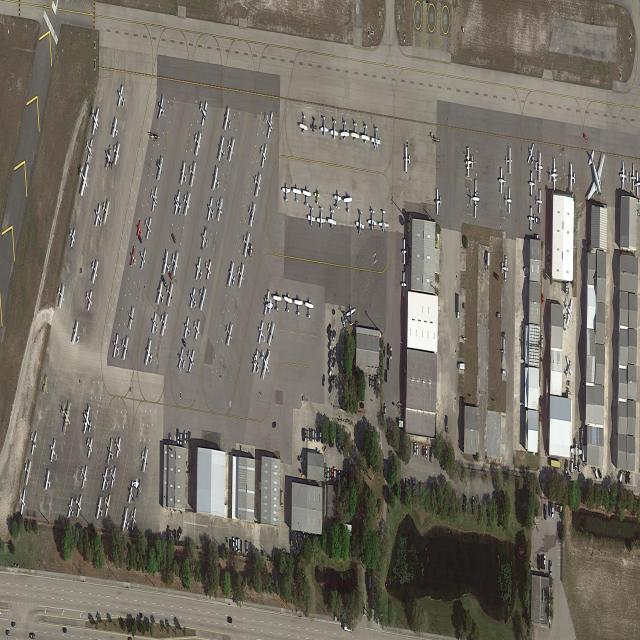large-vehicle: (344, 623, 353, 632), (457, 295, 460, 319), (458, 363, 465, 370)
plane: (582, 131, 609, 215), (77, 154, 91, 202), (60, 392, 73, 440), (259, 339, 272, 386), (81, 400, 93, 442), (89, 100, 101, 141), (103, 139, 115, 179), (564, 292, 575, 332), (570, 437, 582, 473), (264, 105, 275, 142), (198, 94, 209, 131), (251, 346, 262, 381), (144, 336, 154, 374), (159, 303, 169, 340), (173, 186, 183, 223), (471, 179, 480, 220), (263, 287, 273, 323), (227, 259, 237, 295), (236, 256, 246, 292), (71, 317, 81, 353), (28, 424, 38, 460), (149, 180, 159, 216), (157, 91, 167, 127), (266, 314, 276, 349), (242, 226, 252, 261), (253, 166, 263, 201), (226, 131, 236, 166), (120, 329, 130, 364), (56, 278, 66, 313), (23, 454, 33, 489), (198, 280, 208, 315), (186, 341, 196, 376), (156, 277, 166, 312), (182, 185, 192, 220), (139, 441, 149, 475), (257, 317, 267, 351), (224, 316, 234, 350), (49, 436, 59, 470), (84, 132, 94, 166), (564, 352, 574, 385), (259, 139, 269, 172), (106, 435, 115, 471), (171, 244, 180, 280), (248, 196, 257, 231), (224, 104, 233, 139), (74, 487, 83, 522), (212, 164, 221, 199), (162, 248, 171, 283), (112, 331, 121, 365), (80, 458, 89, 492), (90, 253, 99, 287), (117, 81, 126, 115), (215, 191, 224, 225), (195, 254, 204, 288), (165, 276, 174, 310), (188, 156, 197, 190), (193, 125, 202, 159), (155, 150, 164, 184), (18, 484, 27, 518), (101, 464, 110, 497), (94, 201, 103, 234), (101, 194, 110, 227), (206, 194, 215, 227), (200, 223, 209, 256), (527, 139, 536, 171), (550, 157, 558, 193), (144, 211, 153, 243), (85, 430, 94, 461), (112, 138, 121, 169), (122, 505, 130, 539), (204, 254, 213, 284), (189, 285, 198, 315), (183, 314, 192, 344), (109, 460, 117, 493), (103, 487, 111, 520), (127, 301, 135, 334), (218, 134, 226, 167), (620, 160, 628, 193), (356, 208, 365, 237), (379, 208, 389, 234), (178, 344, 186, 376), (371, 126, 381, 151), (128, 479, 136, 510), (96, 494, 104, 525), (139, 243, 147, 274), (193, 313, 201, 344), (180, 160, 188, 191), (346, 304, 356, 328), (283, 291, 293, 315), (44, 466, 52, 496), (85, 285, 93, 315), (114, 432, 122, 461), (130, 244, 138, 273), (67, 495, 75, 524), (69, 222, 77, 251), (151, 310, 159, 339), (304, 297, 314, 320), (368, 207, 377, 232), (536, 152, 543, 184), (501, 255, 509, 283), (466, 146, 473, 178), (569, 163, 576, 193), (302, 185, 311, 208), (361, 123, 370, 146), (351, 121, 360, 144), (299, 113, 308, 136), (130, 504, 137, 533), (435, 187, 442, 216), (630, 164, 637, 193), (307, 206, 316, 228), (328, 208, 337, 230), (499, 168, 506, 196), (112, 115, 119, 143), (294, 295, 303, 316), (317, 207, 326, 228), (529, 170, 536, 197), (341, 119, 349, 142), (330, 118, 338, 141), (404, 147, 411, 173), (136, 217, 143, 243), (292, 184, 301, 204), (273, 292, 282, 312), (334, 189, 342, 211), (41, 371, 48, 396), (506, 147, 512, 175), (506, 187, 512, 214), (402, 272, 408, 299), (402, 238, 408, 265), (536, 188, 542, 215), (282, 182, 290, 202), (529, 206, 535, 232), (344, 194, 352, 213), (321, 116, 328, 137), (310, 115, 317, 135), (501, 339, 506, 365), (314, 188, 320, 206)
ship: (524, 266, 529, 273)
small-vehicle: (546, 256, 551, 270), (597, 467, 602, 480), (327, 323, 332, 336), (594, 466, 598, 481), (565, 460, 569, 475), (341, 358, 345, 373), (178, 526, 182, 541), (619, 470, 623, 484), (329, 365, 333, 379), (340, 382, 344, 396), (167, 525, 170, 543), (547, 248, 551, 261), (329, 339, 333, 352), (329, 357, 333, 370), (342, 317, 346, 330), (571, 458, 574, 474), (329, 330, 333, 342), (329, 348, 333, 360), (329, 383, 333, 395), (298, 455, 303, 464), (172, 233, 176, 244), (332, 357, 336, 368), (138, 234, 142, 244), (272, 421, 277, 429), (344, 311, 347, 324), (584, 133, 588, 142), (548, 191, 552, 200), (502, 368, 506, 377), (333, 347, 336, 359), (235, 539, 238, 551), (333, 330, 336, 342), (30, 632, 35, 639), (227, 617, 232, 624), (319, 426, 321, 443), (626, 473, 629, 484), (334, 467, 336, 483), (541, 335, 543, 351), (446, 416, 448, 432), (495, 273, 499, 281), (6, 630, 11, 636), (564, 315, 566, 330), (550, 561, 552, 576), (552, 502, 554, 517), (281, 492, 283, 507), (544, 555, 546, 570), (333, 375, 336, 385), (339, 435, 341, 450), (325, 464, 327, 479), (233, 537, 235, 552), (63, 627, 67, 634), (472, 496, 474, 510), (536, 217, 540, 224), (330, 434, 332, 448), (360, 395, 364, 402), (360, 402, 364, 409), (390, 348, 392, 362), (338, 470, 340, 484), (414, 443, 416, 457), (329, 468, 331, 482), (323, 374, 325, 388), (317, 428, 319, 442), (177, 431, 179, 445), (184, 431, 186, 445), (238, 539, 240, 553), (169, 271, 172, 280), (582, 376, 584, 389), (413, 480, 415, 493), (385, 370, 387, 383), (430, 448, 432, 461), (332, 435, 334, 448), (337, 436, 339, 449), (332, 468, 334, 481), (327, 468, 329, 481), (246, 541, 248, 554), (189, 432, 191, 445), (12, 622, 16, 628), (578, 460, 580, 472), (423, 445, 425, 457), (406, 479, 408, 491), (463, 496, 465, 508), (462, 398, 466, 404), (335, 615, 339, 621), (416, 445, 418, 457), (384, 404, 386, 416), (372, 377, 374, 389), (370, 376, 372, 388), (314, 430, 316, 442), (312, 431, 314, 443), (305, 430, 307, 442), (304, 460, 306, 472), (169, 433, 171, 445), (230, 540, 232, 552), (240, 541, 242, 553), (540, 396, 542, 407), (628, 473, 630, 484), (341, 471, 343, 482), (310, 430, 312, 441), (307, 431, 309, 442), (302, 431, 304, 442), (182, 434, 184, 445), (186, 433, 188, 444), (180, 434, 182, 445), (175, 530, 177, 541), (540, 412, 542, 422), (566, 381, 570, 386), (170, 531, 172, 541), (636, 210, 639, 216), (502, 332, 505, 338), (550, 502, 551, 517), (497, 313, 500, 318), (545, 505, 546, 519), (539, 556, 540, 570), (388, 358, 389, 371), (388, 344, 389, 356), (542, 557, 543, 569), (542, 294, 543, 306), (426, 446, 427, 458), (466, 497, 467, 508), (346, 471, 347, 480), (240, 446, 241, 455)
